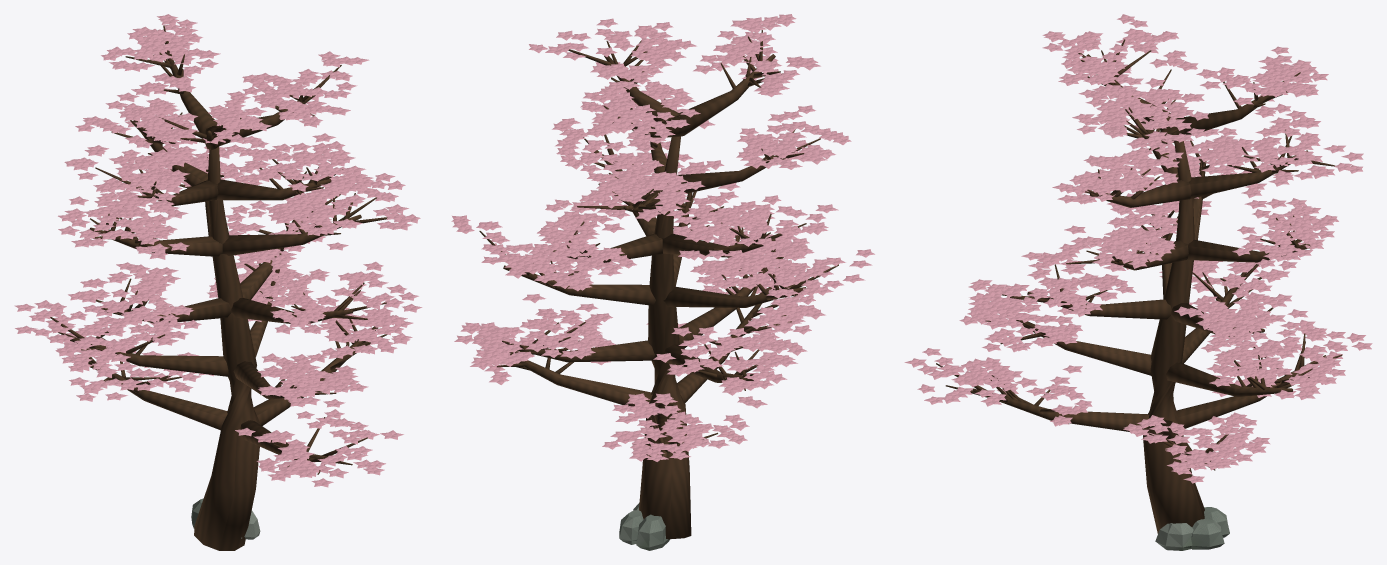
File: v02_peach_0.fbx
3 views of the same model, side by side, from view 1: azimuth 30°, elevation 25°; view 2: azimuth 150°, elevation 25°; view 3: azimuth 270°, elevation 25° (orthographic).
Visible parts, largest first — view 1: v02_peach_0.003; view 2: v02_peach_0.003; view 3: v02_peach_0.003.
Boxes of the visible parts, x1,y1,x2,y2 form: v02_peach_0.003: (14, 14, 422, 550); v02_peach_0.003: (451, 14, 874, 550); v02_peach_0.003: (904, 14, 1372, 550).
Size of the model in its own units: 48650 by 44139 by 55340.
